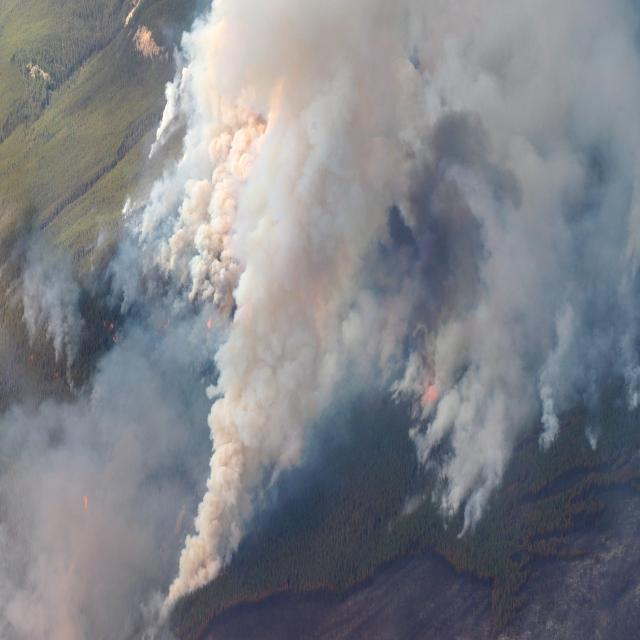Smoke: (188, 0, 634, 527)
